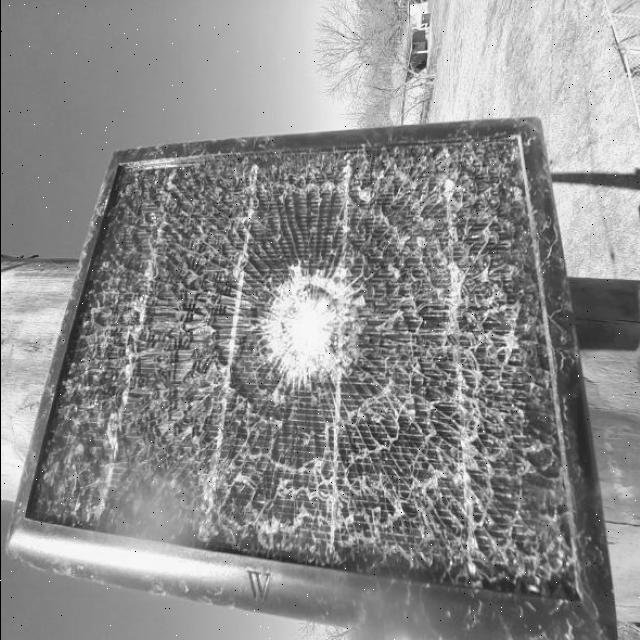Anomaly Solar Panel: (20, 133, 575, 597)
Structural Damage: (196, 220, 440, 452)
